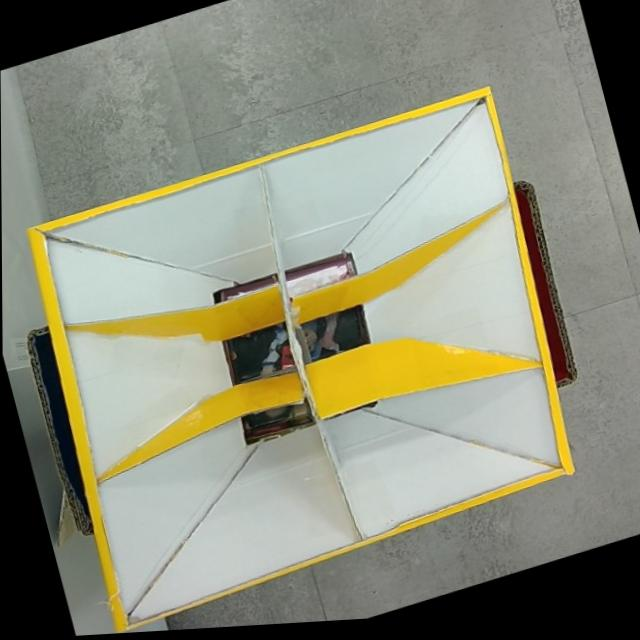box: (1, 80, 610, 640)
